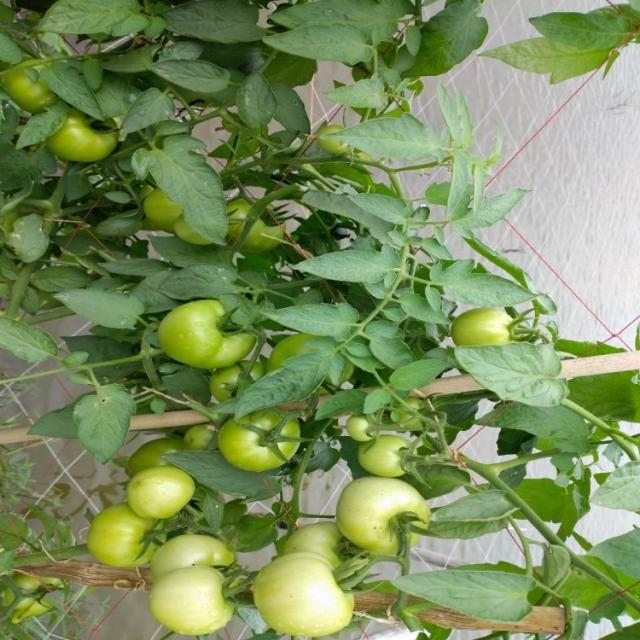tomato: (243, 551, 358, 640), (338, 464, 438, 566), (139, 565, 247, 640), (223, 410, 316, 488), (157, 304, 251, 371), (223, 189, 300, 269), (70, 495, 156, 565), (146, 534, 230, 586), (47, 112, 133, 161), (276, 512, 348, 570), (124, 474, 197, 526), (450, 305, 522, 350), (356, 432, 421, 479), (13, 577, 71, 629), (1, 61, 52, 115), (134, 188, 196, 230), (210, 365, 262, 406)
